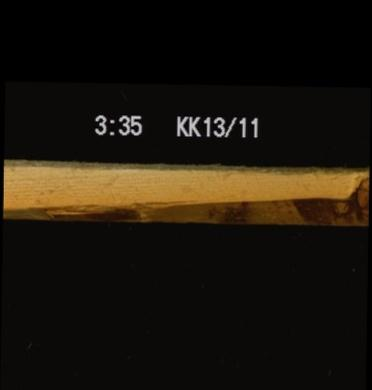wave: (2, 163, 368, 221)
